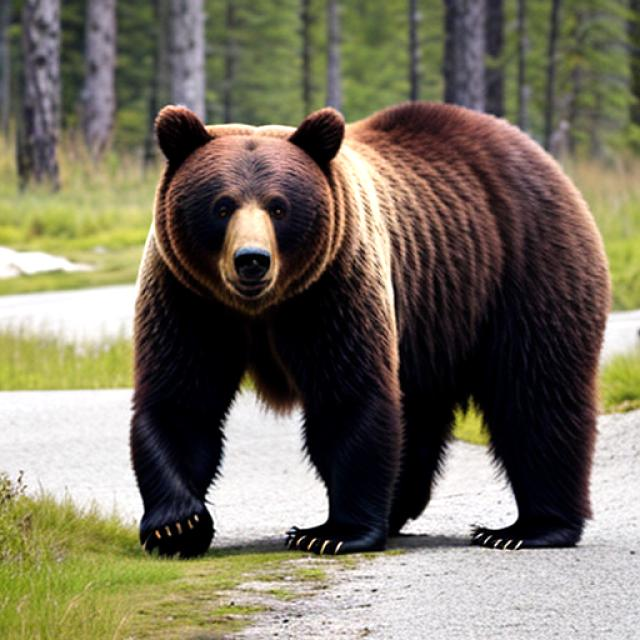bear: (137, 98, 380, 321)
